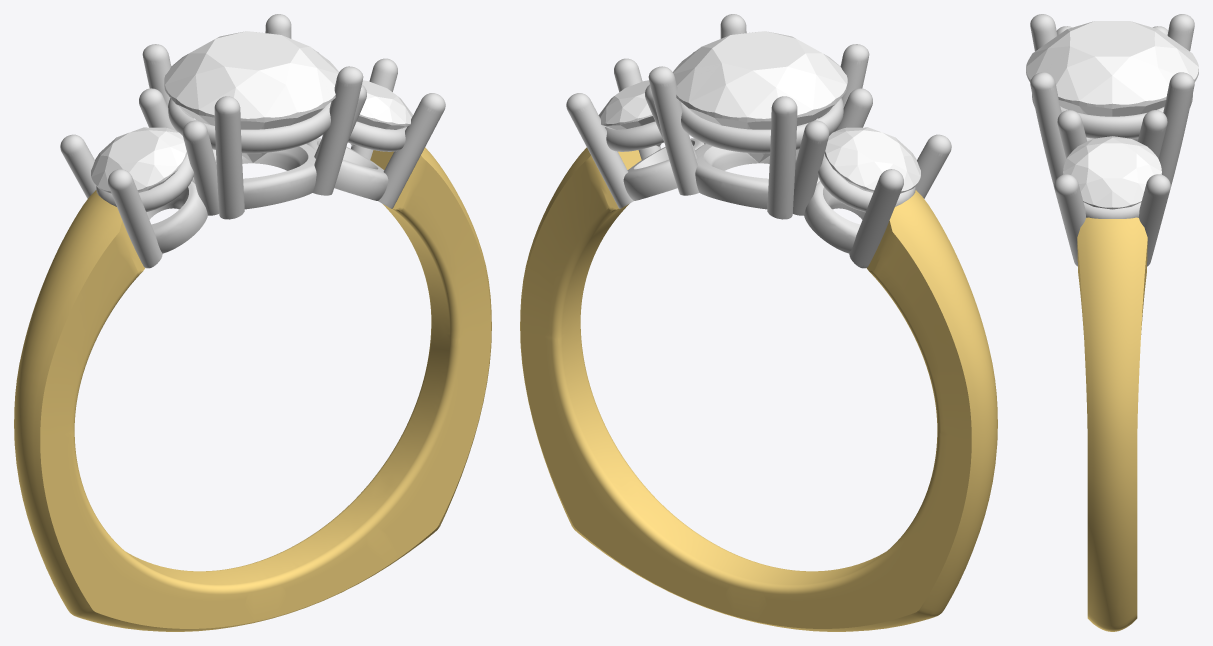
Rendered from cassiaK_New_webgi.glb.
The picture shows the model from 3 angles, left to right: view 1: azimuth 30°, elevation 25°; view 2: azimuth 150°, elevation 25°; view 3: azimuth 270°, elevation 25°; orthographic projection. The views are drawn at different scales.
Visible parts, largest first — view 1: YG_shank_for_3d_model, PT_head_for_3d_model, ameythst_for_3d_model, diamonds_for_3d_model001, diamonds_for_3d_model002; view 2: YG_shank_for_3d_model, PT_head_for_3d_model, ameythst_for_3d_model, diamonds_for_3d_model001, diamonds_for_3d_model002; view 3: YG_shank_for_3d_model, PT_head_for_3d_model, ameythst_for_3d_model, diamonds_for_3d_model002.
Part boxes in pixels (x1,y1,x2,y2): YG_shank_for_3d_model: (14,147,491,631); PT_head_for_3d_model: (60,14,445,268); ameythst_for_3d_model: (164,31,338,162); diamonds_for_3d_model001: (91,127,187,193); diamonds_for_3d_model002: (350,80,413,146); YG_shank_for_3d_model: (520,147,997,631); PT_head_for_3d_model: (566,14,951,268); ameythst_for_3d_model: (673,31,847,162); diamonds_for_3d_model001: (824,127,920,193); diamonds_for_3d_model002: (598,80,661,146); YG_shank_for_3d_model: (1077,217,1147,631); PT_head_for_3d_model: (1030,14,1194,266); ameythst_for_3d_model: (1026,21,1198,116); diamonds_for_3d_model002: (1063,136,1161,209).
Bounding box in the file's own units: 2.56 × 2.96 × 0.8391.
